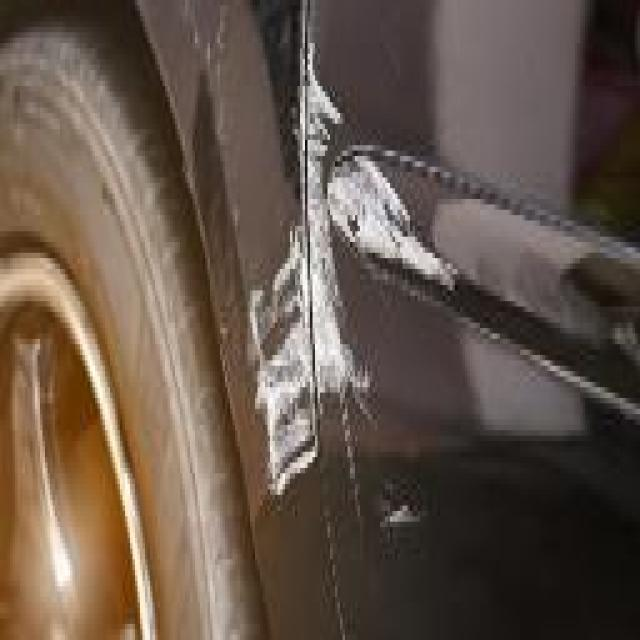Door: (308, 5, 508, 549)
Fender: (172, 5, 320, 506)
